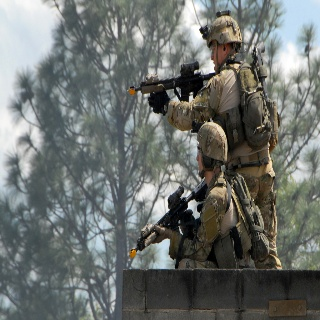rifle: (127, 173, 213, 260), (128, 59, 222, 124)
